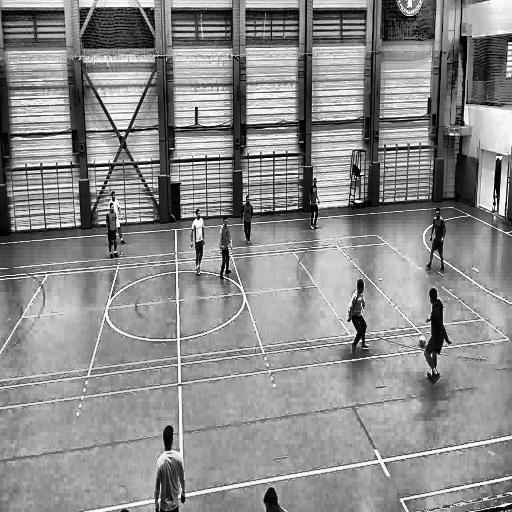ball: (418, 334, 427, 349)
player: (154, 423, 187, 512), (425, 286, 453, 386), (346, 276, 371, 360), (426, 206, 446, 273), (190, 207, 206, 276), (108, 190, 127, 244), (105, 202, 121, 261), (219, 215, 233, 281), (308, 174, 320, 232), (241, 196, 254, 247)
